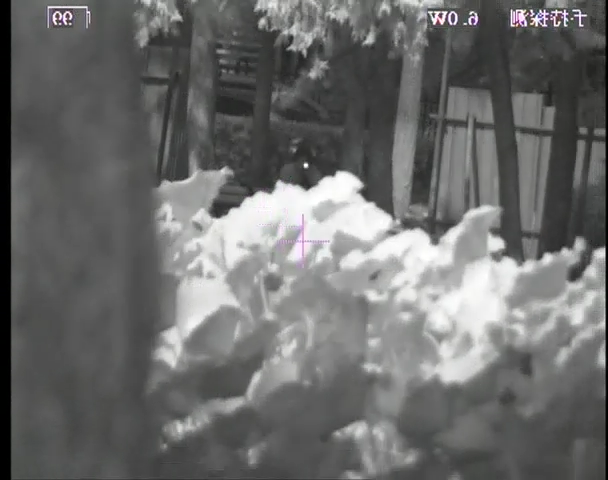my: (303, 161, 312, 171)
